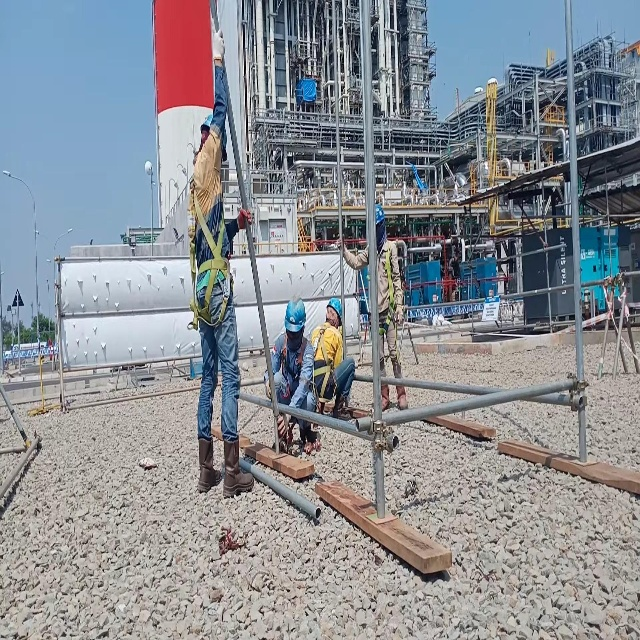Arnes_seguridad: (185, 170, 235, 332), (366, 239, 398, 336), (310, 326, 338, 408), (278, 334, 308, 395)
